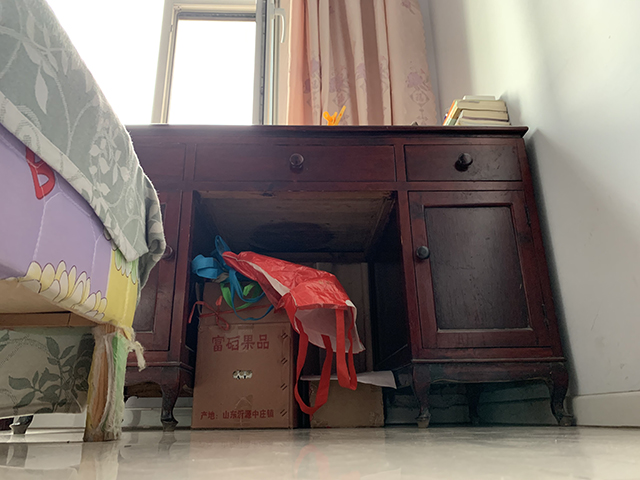bed: (1, 1, 168, 444)
table: (121, 123, 580, 430)
